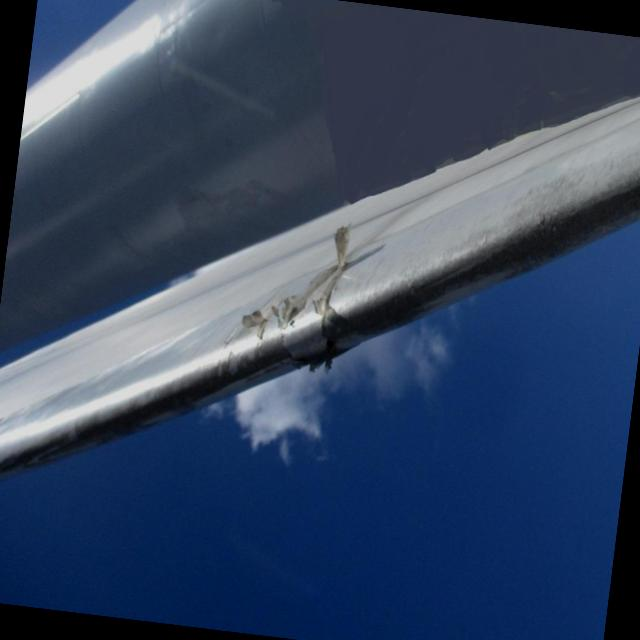crack: (222, 214, 388, 390)
